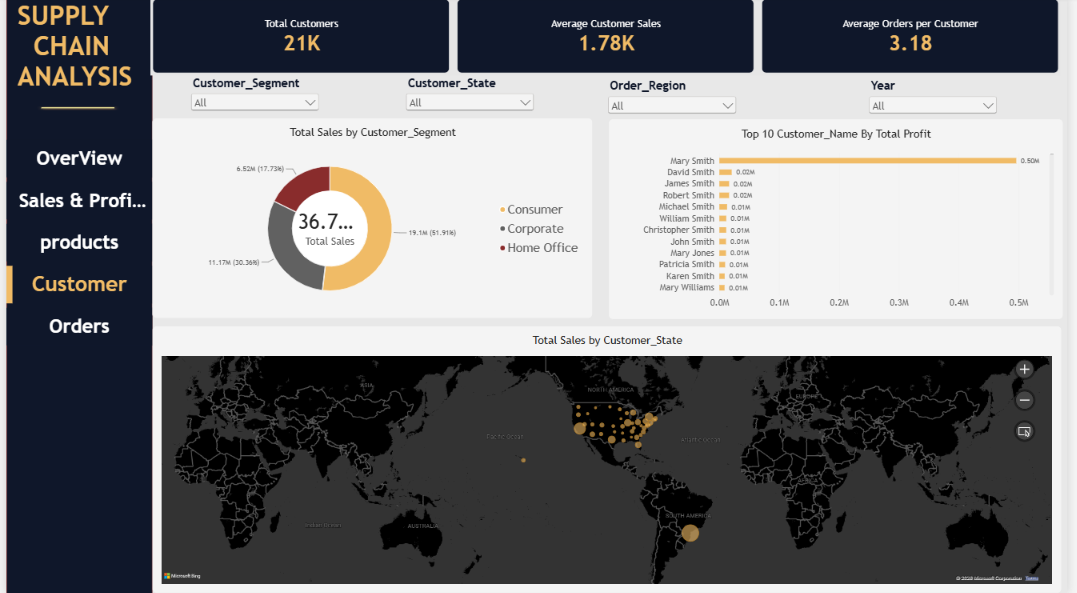

Layout of this report page (visuals, bound fields, positions):
{"tool":"powerbi","page":{"name":"Customer","canvas":[1920,1080],"ordinal":3},"visuals":[{"type":"shape","box":[0,0,264.3,1081],"z":3},{"type":"textbox","box":[19,4.8,244.3,199.1],"z":4},{"type":"pageNavigator","box":[0,259.5,264.3,376.2],"z":5},{"type":"shape","box":[54.3,191.8,150.2,12.7],"z":6},{"type":"cardVisual","fields":{"Data":["Table.Total Customers","Table.Average Customer Sales","Table.Average Orders per Customer"]},"box":[261.4,0,1647.6,142.9],"z":8},{"type":"donutChart","fields":{"Category":["DimCustomer.Customer_Segment"],"Y":["Table.Total Sales"]},"box":[263.6,218.2,796.7,363.3],"z":9},{"type":"clusteredBarChart","title":"Top 10  Customer_Name By Total Profit","fields":{"Category":["DimCustomer.Customer_Full_Name"],"Y":["Table.Total Profit"]},"box":[1088.6,220.5,823.3,363.3],"z":10},{"type":"map","fields":{"Category":["DimCustomer.Customer_State"],"Size":["Table.Total Sales"]},"box":[263.6,595.5,1645.5,484.1],"z":11},{"type":"slicer","fields":{"Values":["DimCustomer.Customer_Segment"]},"box":[329.5,143.2,240.9,257.5],"z":12},{"type":"slicer","fields":{"Values":["Date.Date.Variation.Date Hierarchy.Year"]},"box":[1556.8,147.7,240.9,257.5],"z":13},{"type":"slicer","fields":{"Values":["Dim_Location.Order_Region"]},"box":[1084,148,242,72],"z":14},{"type":"slicer","fields":{"Values":["DimCustomer.Customer_State"]},"box":[718.2,143.2,240.9,257.5],"z":15}]}

Visuals, with their boxes in screenshot pixels (x1, y1, x2, y2), scaled from the page's 1920x1080 canvas onto the 1077x593 screenshot:
shape: bbox=[0, 0, 148, 592]
textbox: bbox=[11, 3, 148, 112]
pageNavigator: bbox=[0, 142, 148, 349]
shape: bbox=[30, 105, 115, 112]
cardVisual - Table.Total Customers x Table.Average Customer Sales: bbox=[147, 0, 1071, 78]
donutChart - DimCustomer.Customer_Segment x Table.Total Sales: bbox=[148, 120, 595, 319]
"Top 10  Customer_Name By Total Profit" clusteredBarChart: bbox=[611, 121, 1072, 321]
map - DimCustomer.Customer_State x Table.Total Sales: bbox=[148, 327, 1071, 592]
slicer - DimCustomer.Customer_Segment: bbox=[185, 79, 320, 220]
slicer - Date.Date.Variation.Date Hierarchy.Year: bbox=[873, 81, 1008, 222]
slicer - Dim_Location.Order_Region: bbox=[608, 81, 744, 121]
slicer - DimCustomer.Customer_State: bbox=[403, 79, 538, 220]
